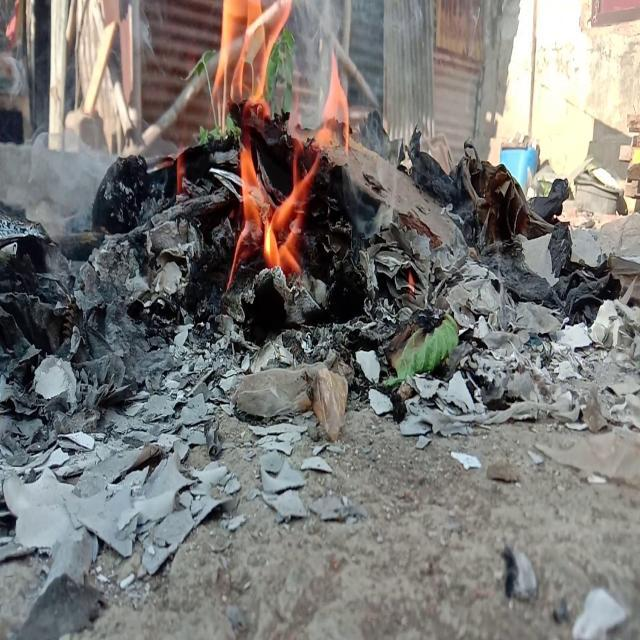Fire: (172, 0, 354, 285)
